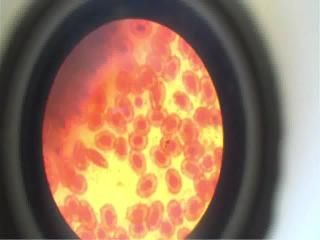cell: (134, 175, 162, 197), (160, 134, 184, 156), (114, 96, 136, 118), (150, 144, 168, 170), (100, 204, 118, 229), (147, 106, 169, 126), (172, 92, 192, 114), (136, 176, 158, 196), (164, 171, 184, 193), (114, 40, 138, 58), (152, 36, 172, 57), (182, 158, 204, 177), (184, 71, 200, 97), (131, 18, 154, 36), (130, 150, 148, 173), (147, 52, 165, 75), (92, 130, 114, 148), (106, 109, 124, 131), (74, 142, 88, 170), (149, 199, 162, 229), (150, 84, 166, 108), (203, 78, 219, 102), (140, 66, 156, 90), (163, 114, 182, 134), (166, 58, 182, 81), (126, 202, 146, 220), (128, 132, 150, 148), (67, 176, 89, 192), (184, 197, 199, 220), (81, 201, 95, 224), (168, 201, 182, 223), (133, 118, 153, 133), (66, 196, 78, 220), (130, 224, 148, 238)
